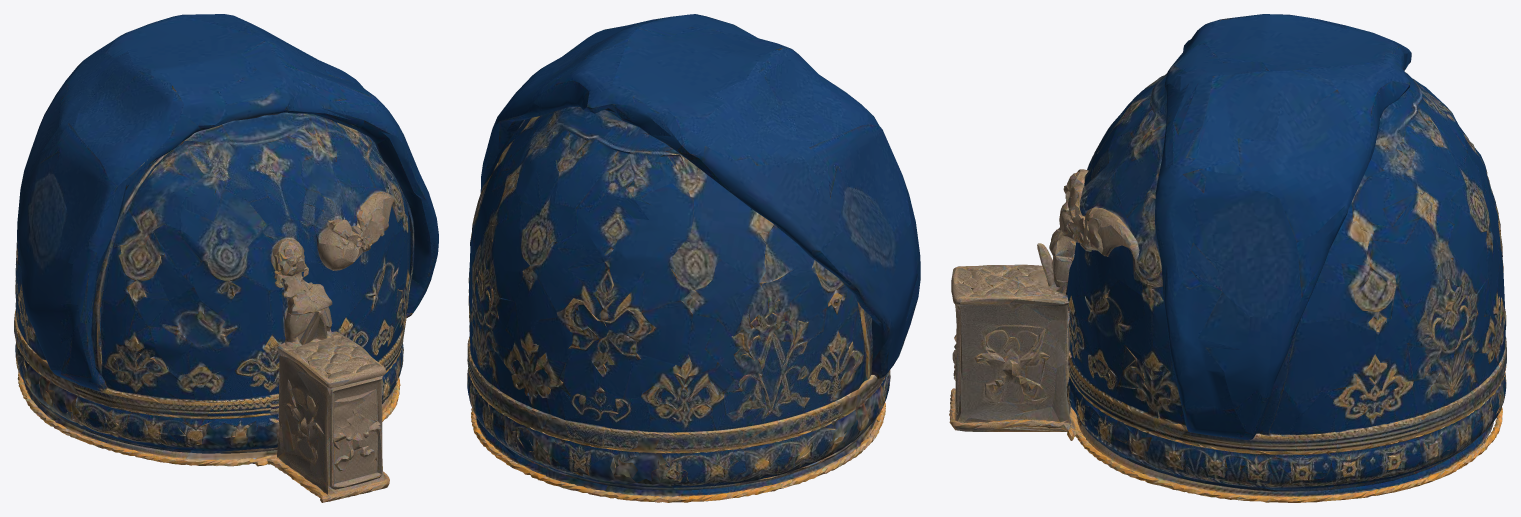
The model's file is tubeteika_blue_prop.glb.
The picture shows the model from 3 angles, left to right: view 1: azimuth 30°, elevation 25°; view 2: azimuth 150°, elevation 25°; view 3: azimuth 270°, elevation 25°; orthographic projection. The views are drawn at different scales.
Parts seen in each view (by area): view 1: mesh_node; view 2: mesh_node; view 3: mesh_node.
Part boxes in pixels (<box>): mesh_node: <box>14,14,438,502</box>; mesh_node: <box>467,14,920,502</box>; mesh_node: <box>949,14,1506,502</box>.
Size of the model in its own units: 1.63 by 1.39 by 1.9.
1 material, 1 textured.
